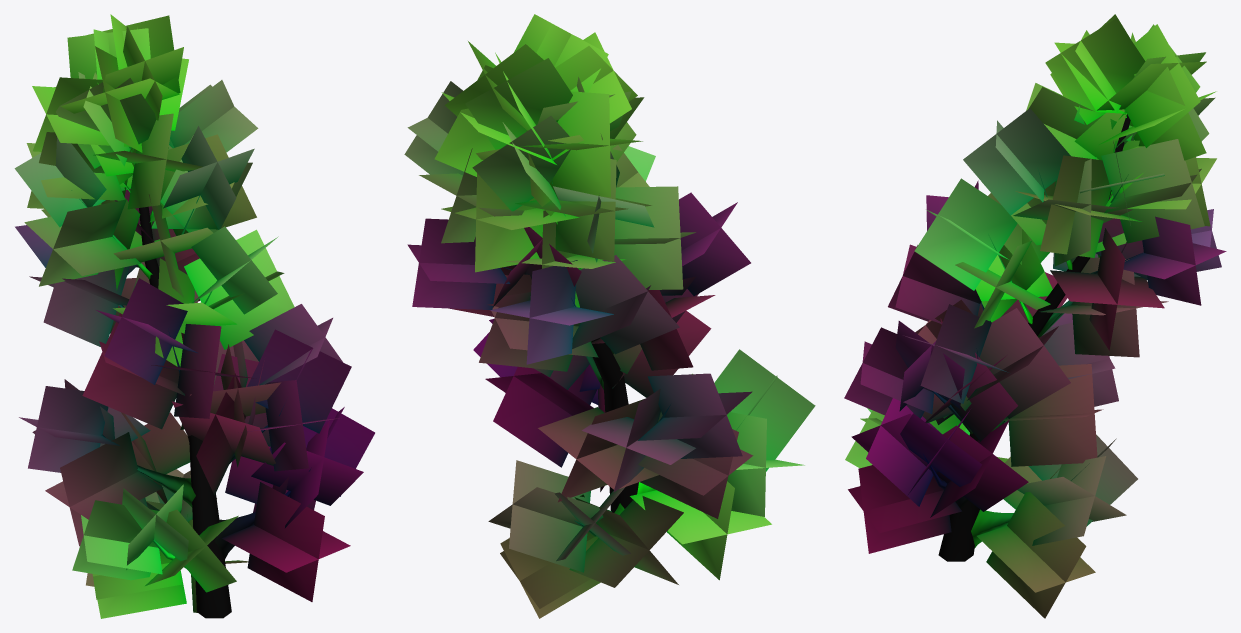
The model's file is URP_P7_Tree_12_LOD_3.fbx.
The picture shows the model from 3 angles, left to right: view 1: azimuth 30°, elevation 25°; view 2: azimuth 150°, elevation 25°; view 3: azimuth 270°, elevation 25°; orthographic projection. The views are drawn at different scales.
Parts seen in each view (by area): view 1: Tree_12_LOD_3; view 2: Tree_12_LOD_3; view 3: Tree_12_LOD_3.
Boxes of the visible parts, x1,y1,x2,y2 form: Tree_12_LOD_3: [14, 14, 374, 618]; Tree_12_LOD_3: [404, 14, 815, 618]; Tree_12_LOD_3: [844, 14, 1226, 618].
Size of the model in its own units: 229 by 435 by 261.
